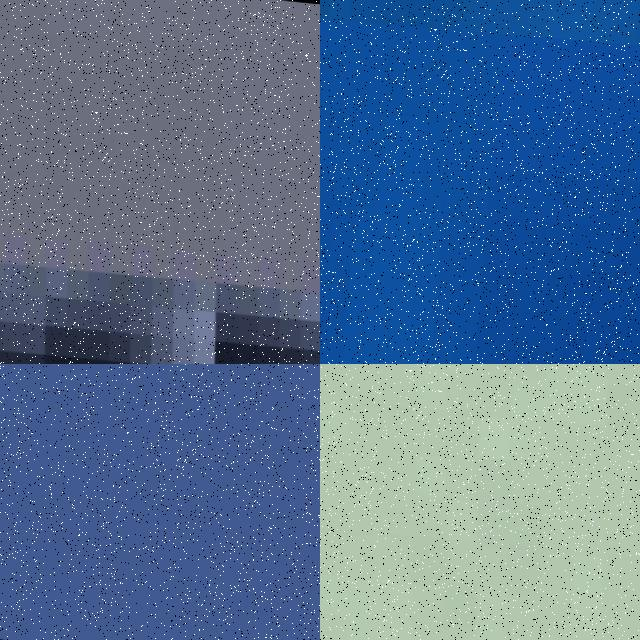0: (0, 0, 320, 364)
drone: (320, 364, 640, 640)
